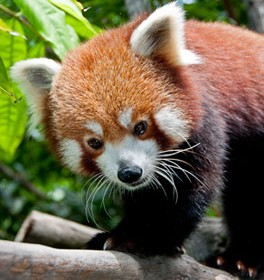red_panda: (8, 9, 264, 251)
